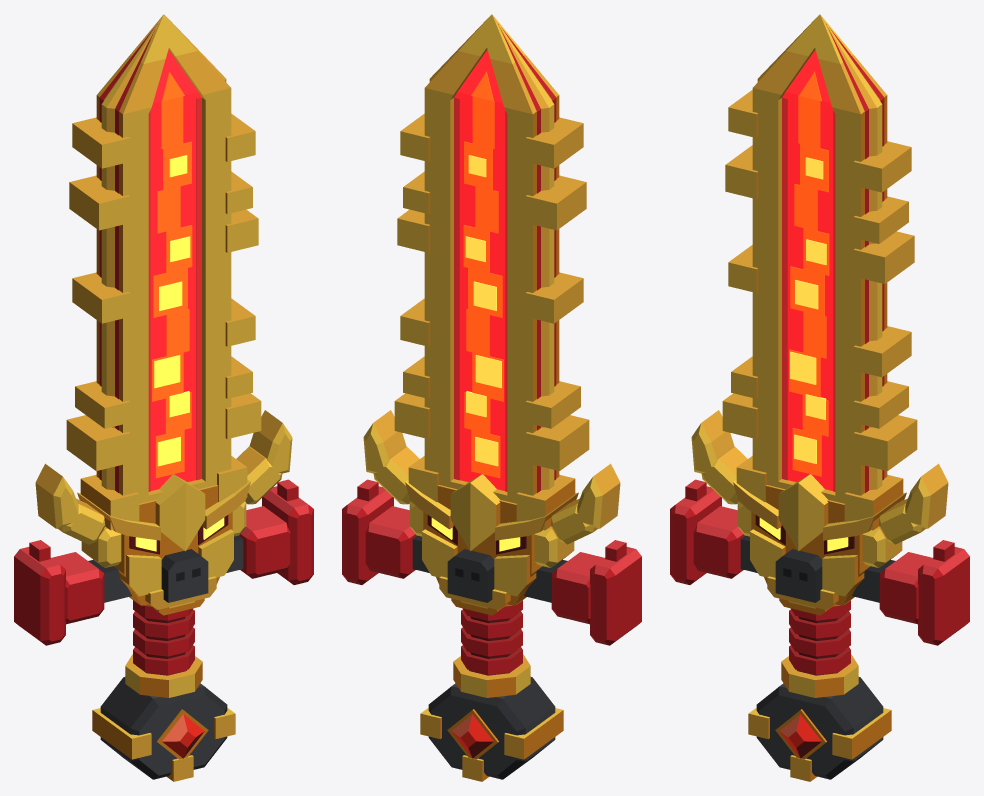
The model's file is emberfang_blade.glb.
3 renders of one model, left to right at view 1: azimuth 30°, elevation 25°; view 2: azimuth 150°, elevation 25°; view 3: azimuth 330°, elevation 25°, orthographic.
Visible parts, largest first — view 1: lava_core, lava_stripe, blade_studs_L, blade_rail_L, blade_rail_R, guard_fist_L, blade_studs_R, pommel, guard_fist_R, blade_spine_L, blade_tip, guard_horn_L (+16 smaller); view 2: lava_core, lava_stripe, blade_studs_L, blade_rail_L, blade_rail_R, guard_fist_L, blade_studs_R, pommel, guard_fist_R, blade_spine_L, blade_tip, guard_horn_L (+16 smaller); view 3: blade_studs_R, lava_core, lava_stripe, blade_rail_L, blade_rail_R, guard_fist_R, pommel, guard_fist_L, blade_studs_L, blade_spine_R, blade_tip, guard_horn_R (+16 smaller).
Boxes of the visible parts, x1,y1,x2,y2 form: lava_core: (148, 49, 201, 491); lava_stripe: (152, 71, 192, 478); blade_studs_L: (66, 117, 130, 470); blade_rail_L: (96, 95, 148, 503); blade_rail_R: (202, 88, 231, 487); guard_fist_L: (14, 540, 104, 645); blade_studs_R: (225, 113, 261, 439); pommel: (100, 677, 227, 779); guard_fist_R: (239, 479, 313, 584); blade_spine_L: (99, 16, 162, 492); blade_tip: (97, 14, 230, 114); guard_horn_L: (35, 463, 121, 567); lava_core: (454, 49, 507, 491); lava_stripe: (463, 71, 503, 478); blade_studs_L: (525, 117, 589, 470); blade_rail_L: (507, 95, 559, 503); blade_rail_R: (424, 88, 453, 487); guard_fist_L: (551, 540, 641, 645); blade_studs_R: (394, 113, 430, 439); pommel: (428, 677, 555, 779); guard_fist_R: (342, 479, 416, 584); blade_spine_L: (493, 16, 556, 492); blade_tip: (425, 14, 558, 114); guard_horn_L: (534, 463, 620, 567); blade_studs_R: (853, 141, 917, 470); lava_core: (782, 49, 835, 491); lava_stripe: (789, 71, 829, 476); blade_rail_L: (752, 88, 781, 487); blade_rail_R: (835, 95, 887, 503); guard_fist_R: (879, 540, 969, 645); pommel: (756, 677, 883, 779); guard_fist_L: (670, 479, 744, 584); blade_studs_L: (722, 90, 758, 439); blade_spine_R: (821, 16, 884, 492); blade_tip: (753, 14, 886, 114); guard_horn_R: (862, 463, 948, 567).
Size of the model in its own units: 0.48 by 1.26 by 0.15.
